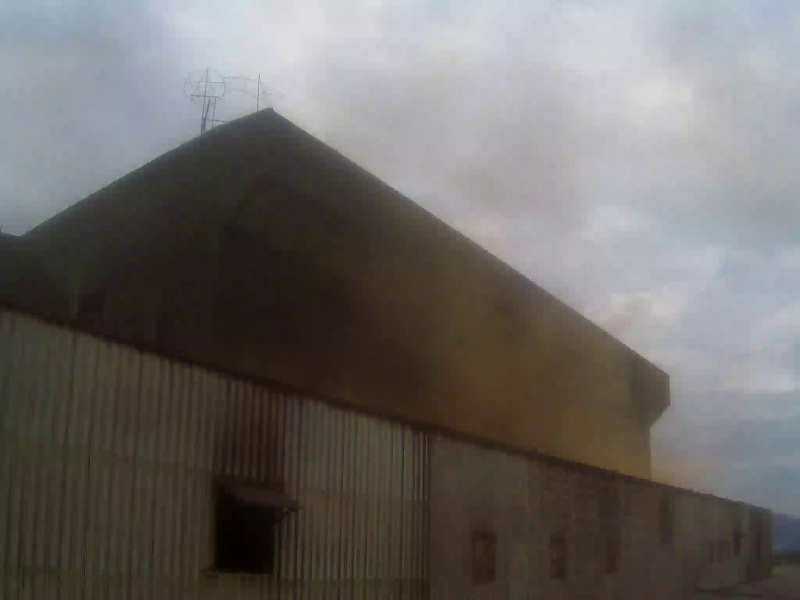Pessimo: (363, 169, 663, 478)
